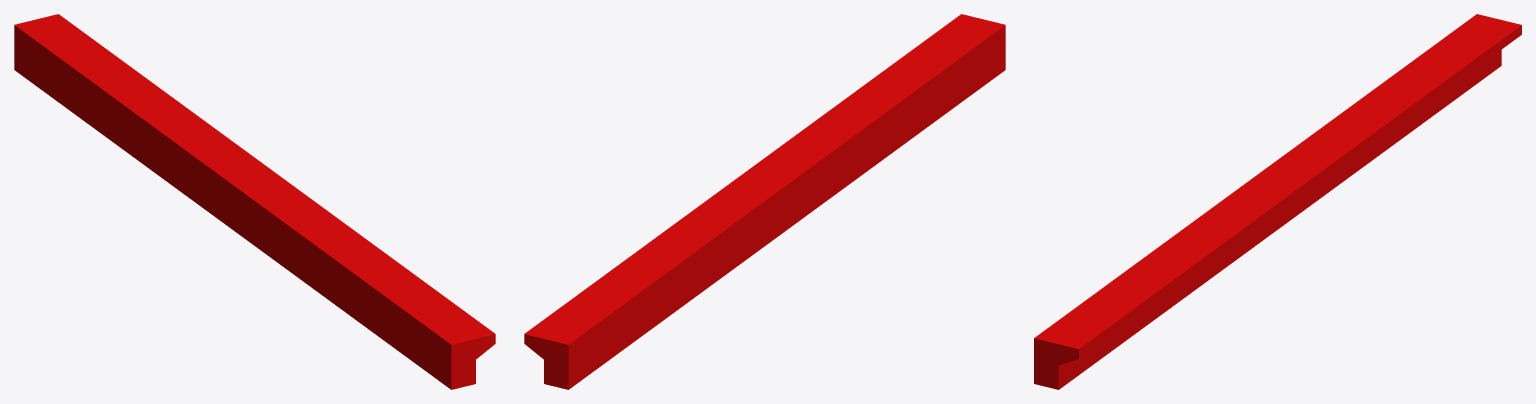
The model's file is Arc_Orn_03_Lod0.fbx.
3 renders of one model, left to right at view 1: azimuth 30°, elevation 25°; view 2: azimuth 150°, elevation 25°; view 3: azimuth 330°, elevation 25°, orthographic.
Visible parts, largest first — view 1: Arc_Orn_03_Lod0; view 2: Arc_Orn_03_Lod0; view 3: Arc_Orn_03_Lod0.
Part boxes in pixels (box(x1,y1,x2,y2)): Arc_Orn_03_Lod0: box(14, 14, 495, 389); Arc_Orn_03_Lod0: box(524, 14, 1005, 389); Arc_Orn_03_Lod0: box(1034, 14, 1521, 389).
Size of the model in its own units: 633 by 614 by 10797.
